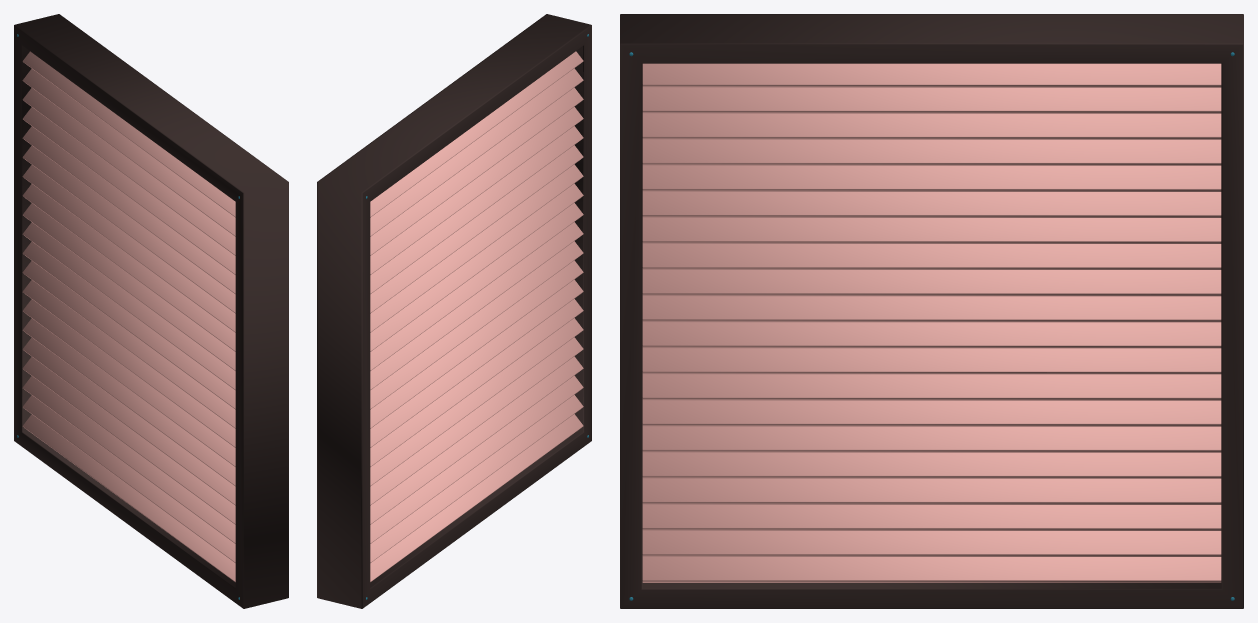
The model's file is vent.fbx.
3 renders of one model, left to right at view 1: azimuth 30°, elevation 25°; view 2: azimuth 150°, elevation 25°; view 3: azimuth 270°, elevation 25°, orthographic. The views are drawn at different scales.
Visible parts, largest first — view 1: VentDoor-Dentes.001, VentDoor-Moldura; view 2: VentDoor-Dentes.001, VentDoor-Moldura; view 3: VentDoor-Dentes, VentDoor-Moldura.
Boxes of the visible parts, x1,y1,x2,y2 form: VentDoor-Dentes.001: [22, 51, 235, 582]; VentDoor-Moldura: [14, 14, 288, 608]; VentDoor-Dentes.001: [370, 51, 583, 582]; VentDoor-Moldura: [317, 14, 591, 608]; VentDoor-Dentes: [642, 63, 1221, 582]; VentDoor-Moldura: [620, 14, 1243, 608].
Bounding box in the file's own units: 8.82 × 75.42 × 75.42.
